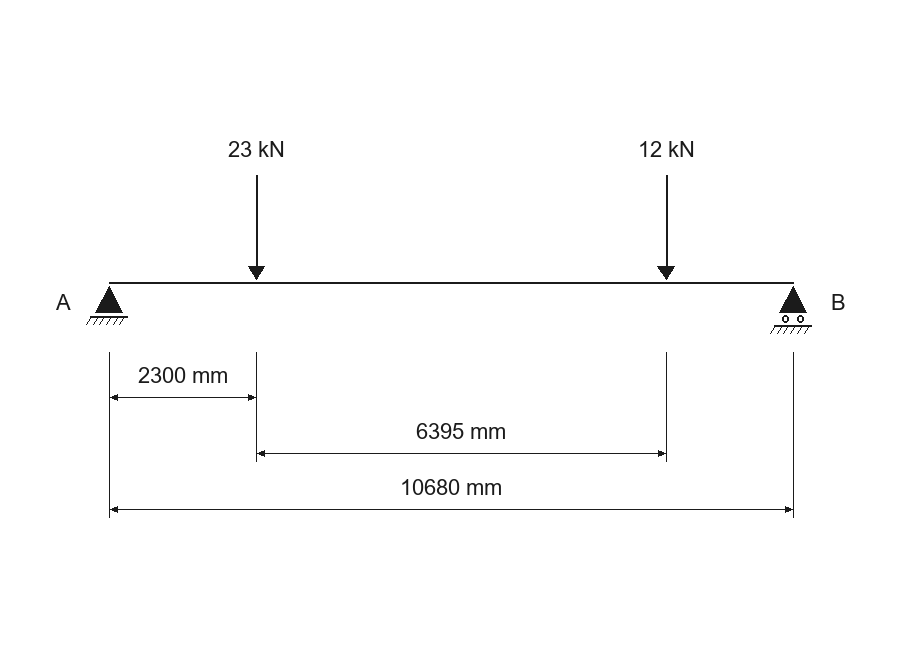pin_support: (86, 286, 128, 325)
point_load: (657, 175, 675, 280), (248, 175, 265, 280)
roller_support: (770, 286, 812, 334)
